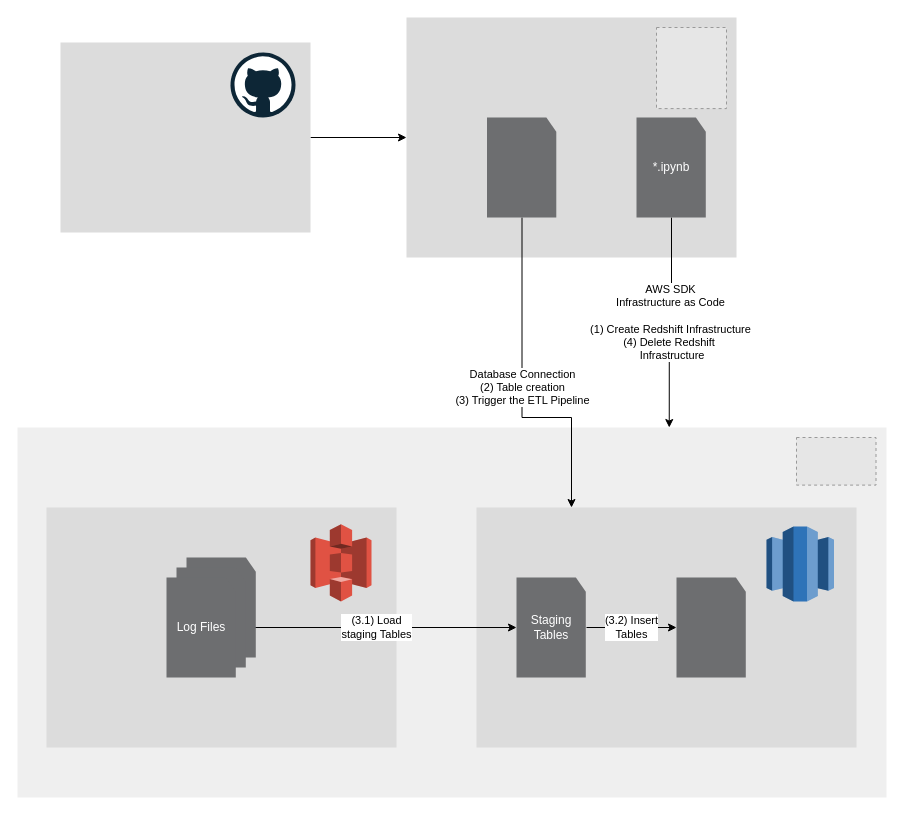
Image size: 903x814. Some labels were removed from this diagram. Grey dashed boxes stand in for pictures. Each missing label, with the box of its shape:
*.py: (486, 117, 556, 217)
Analytic Tables: (676, 577, 746, 677)
Code repository: (60, 42, 310, 232)
